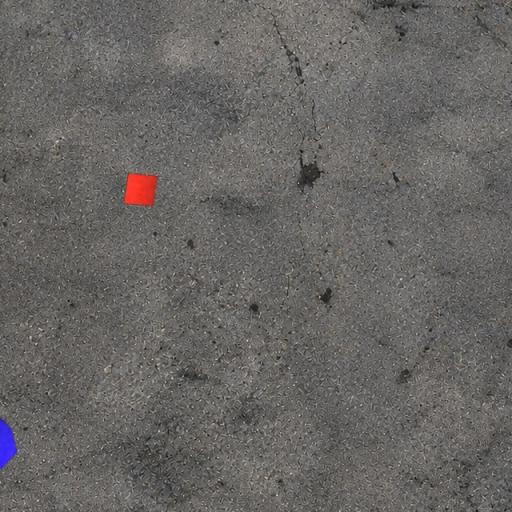RED_SQUARE: (123, 173, 158, 206)
